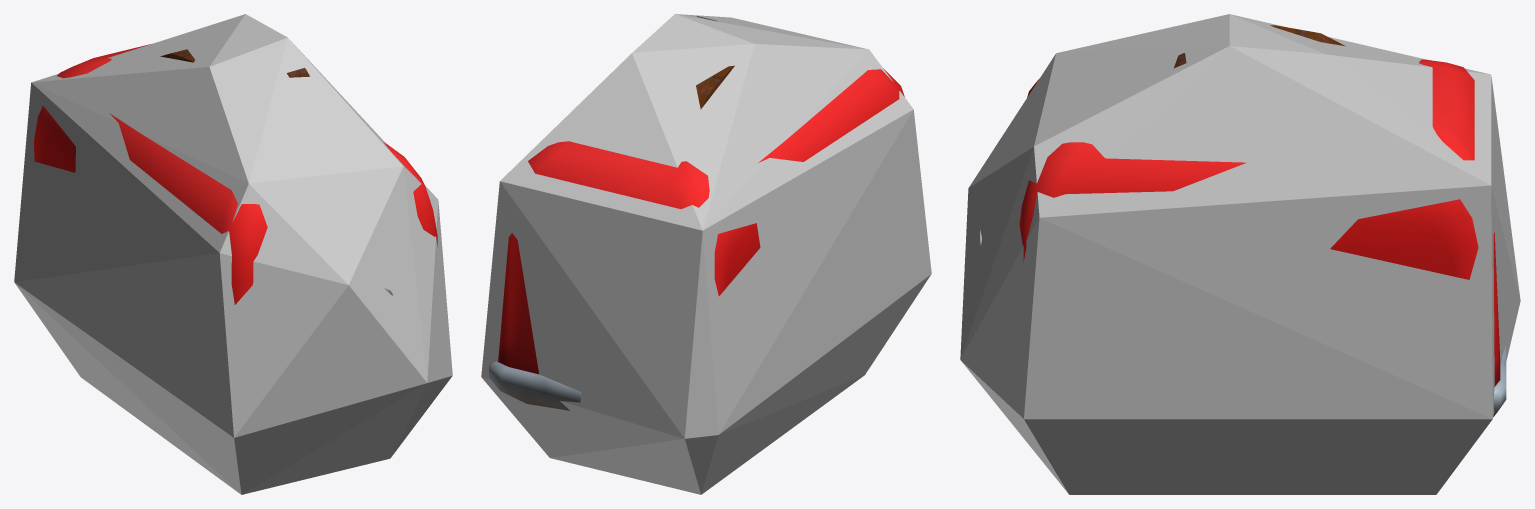
File: SM_Toaster01.fbx
The picture shows the model from 3 angles, left to right: view 1: azimuth 30°, elevation 25°; view 2: azimuth 150°, elevation 25°; view 3: azimuth 270°, elevation 25°; orthographic projection. The views are drawn at different scales.
Visible parts, largest first — view 1: SM_Toaster01_ConvexHulls, SM_Toaster01; view 2: SM_Toaster01_ConvexHulls, SM_Toaster01; view 3: SM_Toaster01_ConvexHulls, SM_Toaster01.
Part boxes in pixels (<box>): SM_Toaster01_ConvexHulls: <box>14,14,452,494</box>; SM_Toaster01: <box>34,44,437,304</box>; SM_Toaster01_ConvexHulls: <box>481,14,931,494</box>; SM_Toaster01: <box>489,16,904,410</box>; SM_Toaster01_ConvexHulls: <box>960,14,1520,494</box>; SM_Toaster01: <box>980,25,1506,416</box>.
Bounding box in the file's own units: 18.54 × 33.81 × 28.7.
2 materials, 1 textured.
